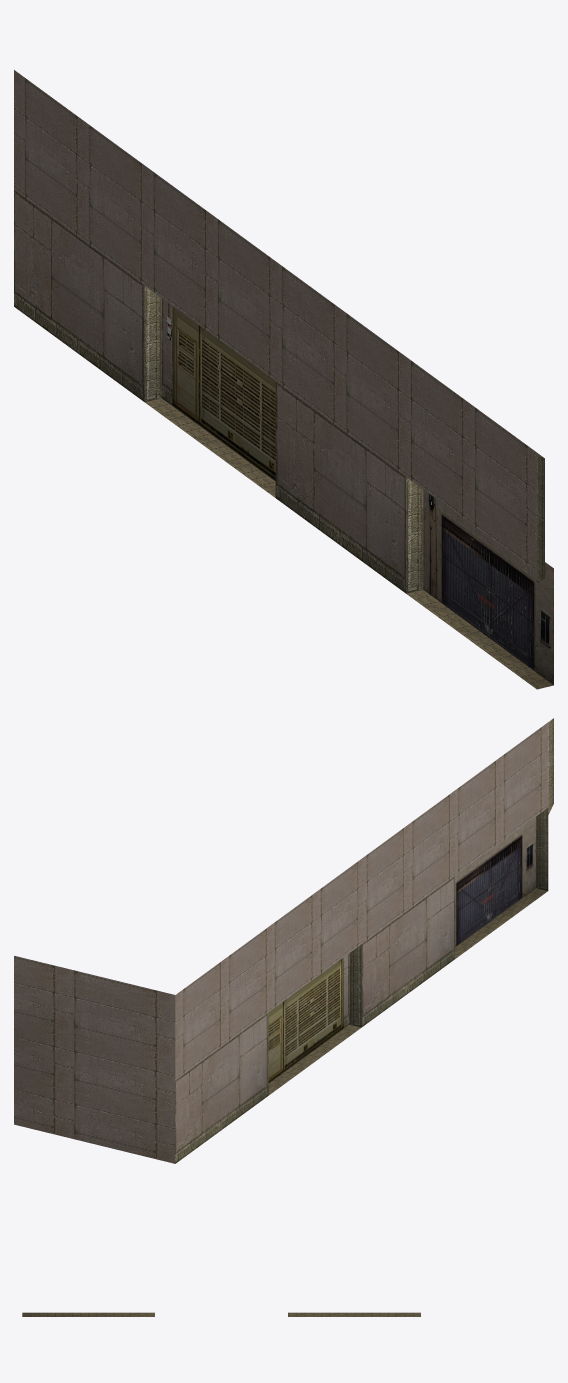
File: M2Zone2_DullbackGrndWall.glb
3 views of the same model, one above another, from view 1: azimuth 30°, elevation 25°; view 2: azimuth 150°, elevation 25°; view 3: azimuth 270°, elevation 25° (orthographic). The views are drawn at different scales.
Visible parts, largest first — view 1: M2ZONE2_DULLBACKGRNDWALL; view 2: M2ZONE2_DULLBACKGRNDWALL; view 3: M2ZONE2_DULLBACKGRNDWALL.
Part boxes in pixels (left/top/right/bottom): M2ZONE2_DULLBACKGRNDWALL: left=14, top=70, right=553, bottom=689; M2ZONE2_DULLBACKGRNDWALL: left=14, top=718, right=553, bottom=1163; M2ZONE2_DULLBACKGRNDWALL: left=22, top=1312, right=420, bottom=1316.
Size of the model in its own units: 8 by 8 by 32.49.
Materials: 5 (5 with a texture image).
